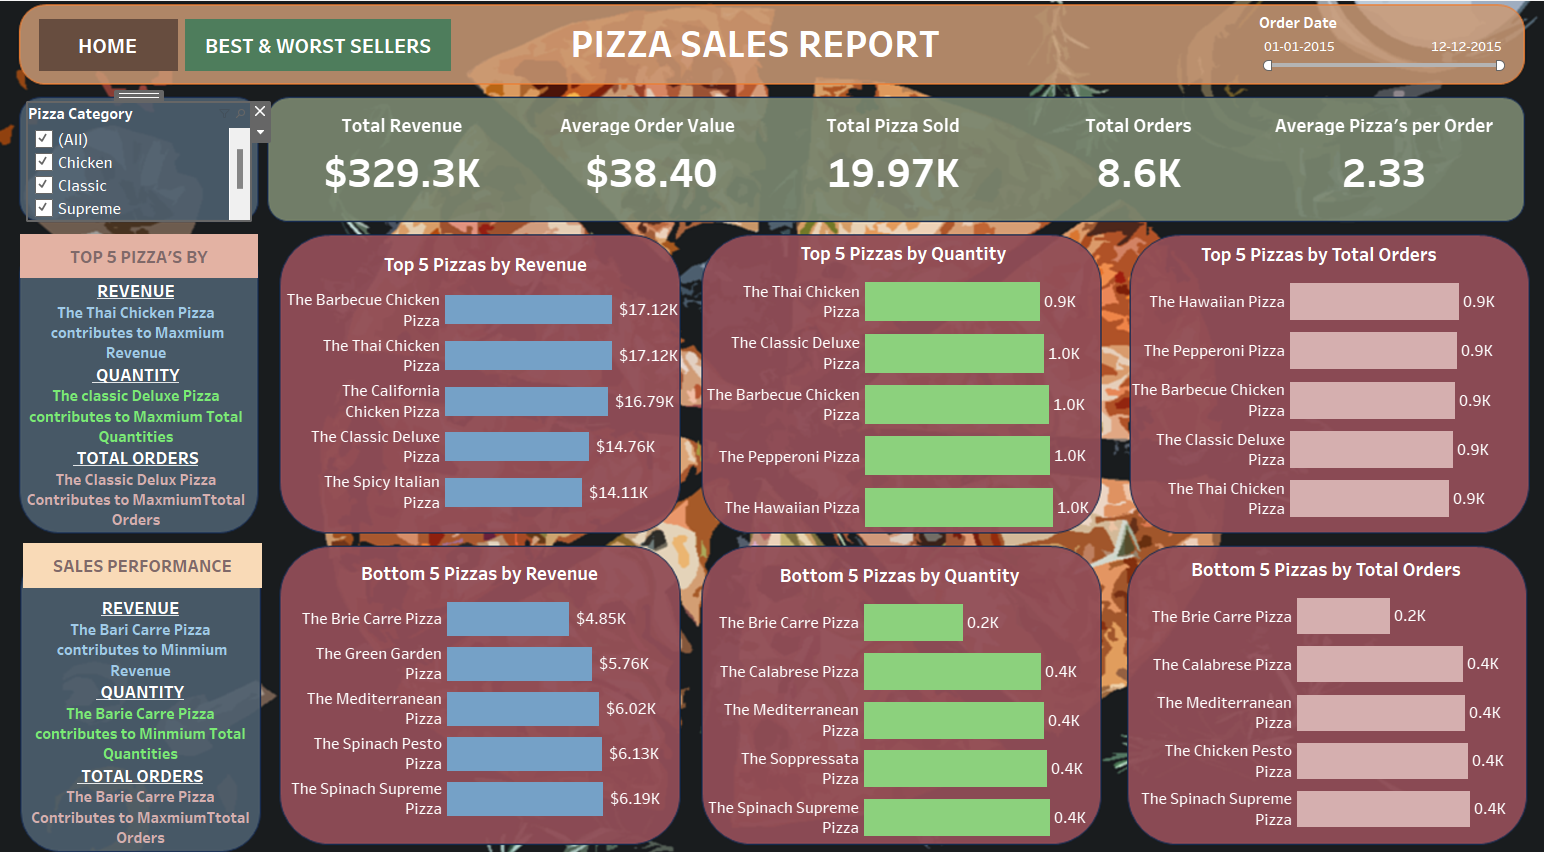

The dashboard page shown, as its layout file describes it:
{"tool":"tableau","page":{"name":"BEST & WORST","canvas":[1600,900],"ordinal":0},"visuals":[{"type":"image","param":"C:/Users/harshita/OneDrive/Desktop/SQL+Tableau/2 bb/Slide1.PNG","box":[8,8,1584,884]},{"type":"text","box":[592,32,385,62]},{"type":"filter","title":"Top 5 Pizzas by Revenue ","param":"[federated.1xeea4k1yl7bp71epdgjh0e7w4b1].[none:order_date:qk]","box":[1284,33,250,96]},{"type":"dashboard-object","box":[64,40,139,52]},{"type":"dashboard-object","box":[210,40,266,52]},{"type":"filter","title":"Top 5 Pizzas by Revenue ","param":"[federated.1xeea4k1yl7bp71epdgjh0e7w4b1].[none:pizza_category:nk]","box":[53,124,222,117]},{"type":"worksheet","title":"KPI Banner","mark":"Automatic","box":[304,136,1228,91]},{"type":"text","box":[45,255,238,44]},{"type":"worksheet","title":"Top 5 Pizzas by Quantity","mark":"Automatic","rows":["pizza_name"],"cols":["quantity"],"box":[730,257,397,297]},{"type":"worksheet","title":"Top 5 Pizzas by Total Orders","mark":"Automatic","rows":["pizza_name"],"cols":["Calculation_1255378442649346050"],"box":[1155,258,378,286]},{"type":"worksheet","title":"Top 5 Pizzas by Revenue ","mark":"Bar","rows":["pizza_name"],"cols":["Calculation_1255378442648776705"],"box":[310,268,405,268]},{"type":"text","box":[43,286,236,285]},{"type":"text","box":[48,564,239,45]},{"type":"worksheet","title":"Bottom 5 Pizzas by Total Orders ","mark":"Automatic","rows":["pizza_name"],"cols":["Calculation_1255378442649346050"],"box":[1162,573,382,281]},{"type":"worksheet","title":"Bottom 5 Pizzas by Revenue","mark":"Automatic","rows":["pizza_name"],"cols":["Calculation_1255378442648776705"],"box":[312,577,385,265]},{"type":"worksheet","title":"Bottom 5 Pizzas by Quantity ","mark":"Automatic","rows":["pizza_name"],"cols":["quantity"],"box":[729,579,395,284]},{"type":"text","box":[47,601,237,290]}]}

Visuals, with their boxes in screenshot pixels (x1, y1, x2, y2), scaled from the page's 1600x900 canvas onto the 1544x852 screenshot:
image: 8:8:1536:844
text: 571:30:943:89
"Top 5 Pizzas by Revenue " filter: 1239:31:1480:122
dashboard-object: 62:38:196:87
dashboard-object: 203:38:459:87
"Top 5 Pizzas by Revenue " filter: 51:117:265:228
"KPI Banner" worksheet: 293:129:1478:215
text: 43:241:273:283
"Top 5 Pizzas by Quantity" worksheet: 704:243:1088:524
"Top 5 Pizzas by Total Orders" worksheet: 1115:244:1479:515
"Top 5 Pizzas by Revenue " worksheet (Bar marks): 299:254:690:507
text: 41:271:269:541
text: 46:534:277:577
"Bottom 5 Pizzas by Total Orders " worksheet: 1121:542:1490:808
"Bottom 5 Pizzas by Revenue" worksheet: 301:546:673:797
"Bottom 5 Pizzas by Quantity " worksheet: 703:548:1085:817
text: 45:569:274:843
